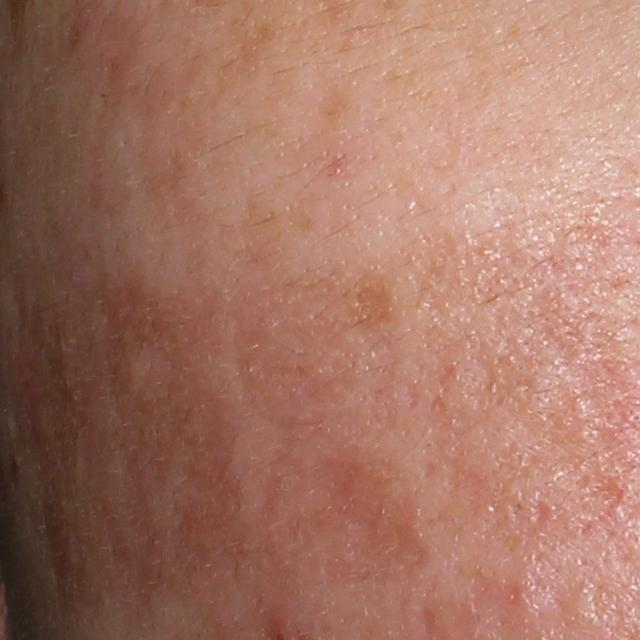melasma: (218, 9, 285, 83), (316, 78, 361, 133)
